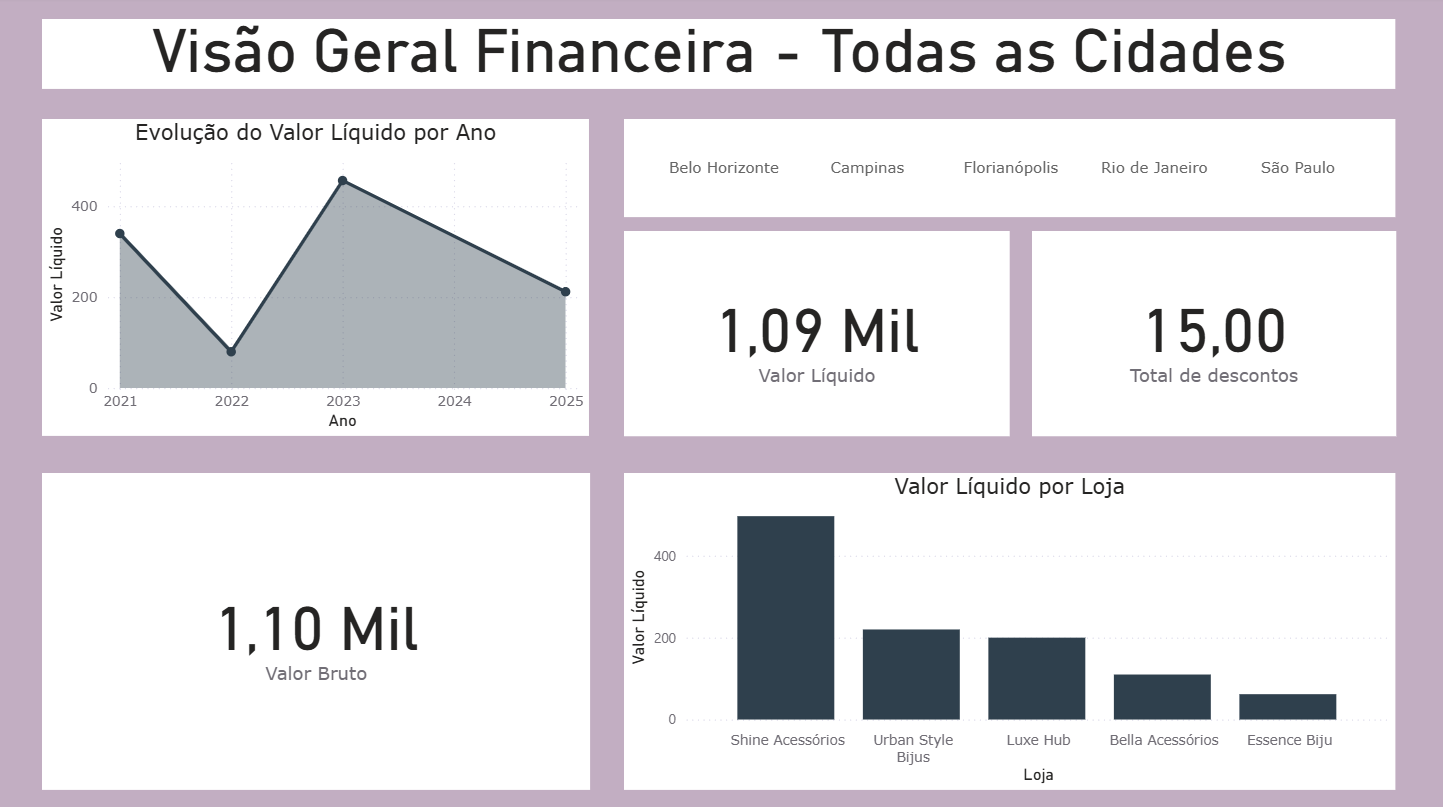

Layout of this report page (visuals, bound fields, positions):
{"tool":"powerbi","page":{"name":"Visão Geral Financeira","canvas":[1280,720],"ordinal":0},"visuals":[{"type":"card","fields":{"Values":["acessoryhub vw_padronizacao_itens_pedido.Total de descontos"]},"box":[914.8,207.6,322.9,181.6],"z":0},{"type":"lineChart","title":"Evolução do Valor Líquido por Ano","fields":{"Y":["acessoryhub vw_lojas_padronizadas.Valor Líquido"],"Category":["acessoryhub pedidos.Data_Pedido.Variation.Hierarquia de datas.Ano"]},"box":[37.5,108.6,485.3,280.6],"z":1000},{"type":"card","fields":{"Values":["acessoryhub vw_padronizacao_itens_pedido.Valor Bruto"]},"box":[37.5,421.9,486.2,280.6],"z":2000},{"type":"card","fields":{"Values":["acessoryhub vw_lojas_padronizadas.Valor Líquido"]},"box":[553.5,207.6,342.1,181.6],"z":3000},{"type":"clusteredColumnChart","fields":{"Y":["acessoryhub vw_lojas_padronizadas.Valor Líquido"],"Category":["acessoryhub vw_lojas_padronizadas.Loja"]},"box":[553.5,421.9,684.2,280.6],"z":4000},{"type":"slicer","fields":{"Values":["acessoryhub vw_lojas_padronizadas.Cidade"]},"box":[553.5,108.6,684.2,87.4],"z":5000},{"type":"card","fields":{"Values":["acessoryhub pedidos.Título Visão Geral"]},"box":[37.5,19.2,1200.2,61.5],"z":6000}]}

Visuals, with their boxes in screenshot pixels (x1, y1, x2, y2), scaled from the page's 1280x720 canvas onto the 1443x807 screenshot:
card - acessoryhub vw_padronizacao_itens_pedido.Total de descontos: x1=1031, y1=233, x2=1395, y2=436
"Evolução do Valor Líquido por Ano" lineChart: x1=42, y1=122, x2=589, y2=436
card - acessoryhub vw_padronizacao_itens_pedido.Valor Bruto: x1=42, y1=473, x2=590, y2=787
card - acessoryhub vw_lojas_padronizadas.Valor Líquido: x1=624, y1=233, x2=1010, y2=436
clusteredColumnChart - acessoryhub vw_lojas_padronizadas.Valor Líquido x acessoryhub vw_lojas_padronizadas.Loja: x1=624, y1=473, x2=1395, y2=787
slicer - acessoryhub vw_lojas_padronizadas.Cidade: x1=624, y1=122, x2=1395, y2=220
card - acessoryhub pedidos.Título Visão Geral: x1=42, y1=22, x2=1395, y2=90
